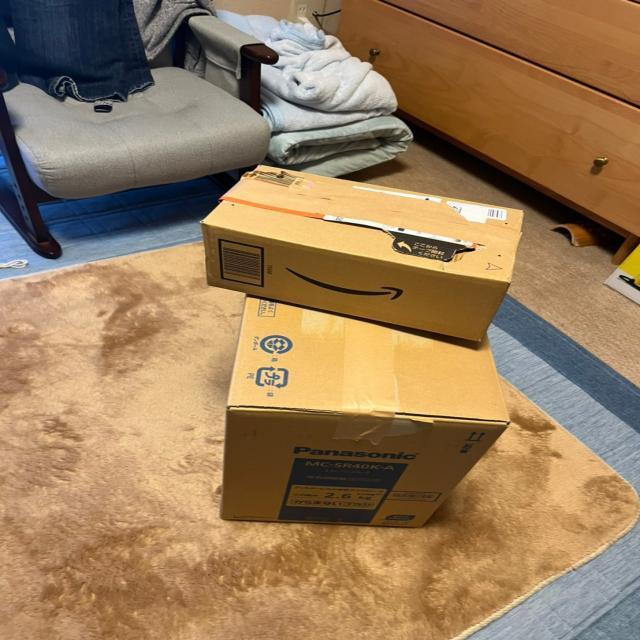box: (214, 227, 517, 533), (195, 157, 529, 350)
